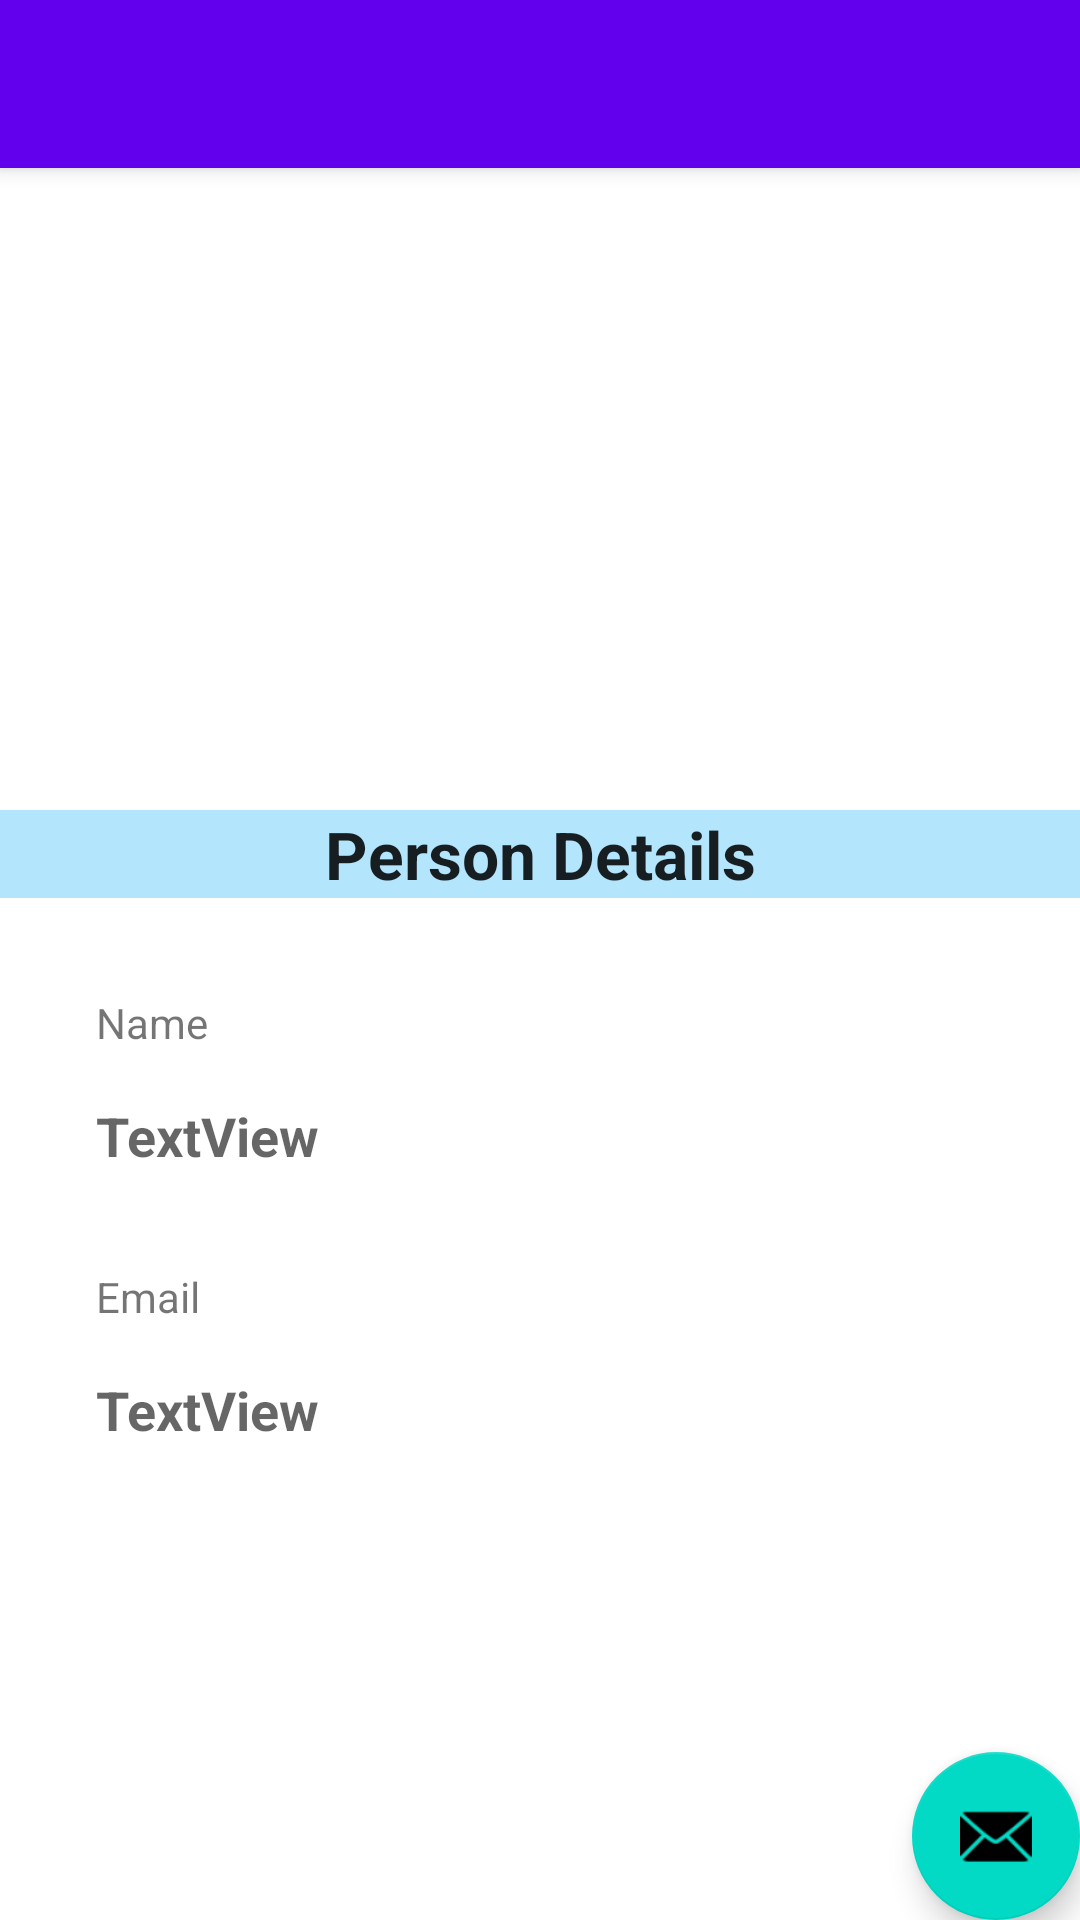

Named icons in this screenshot (1080*1920) and their centers, (x,y):
email: (996,1836)
